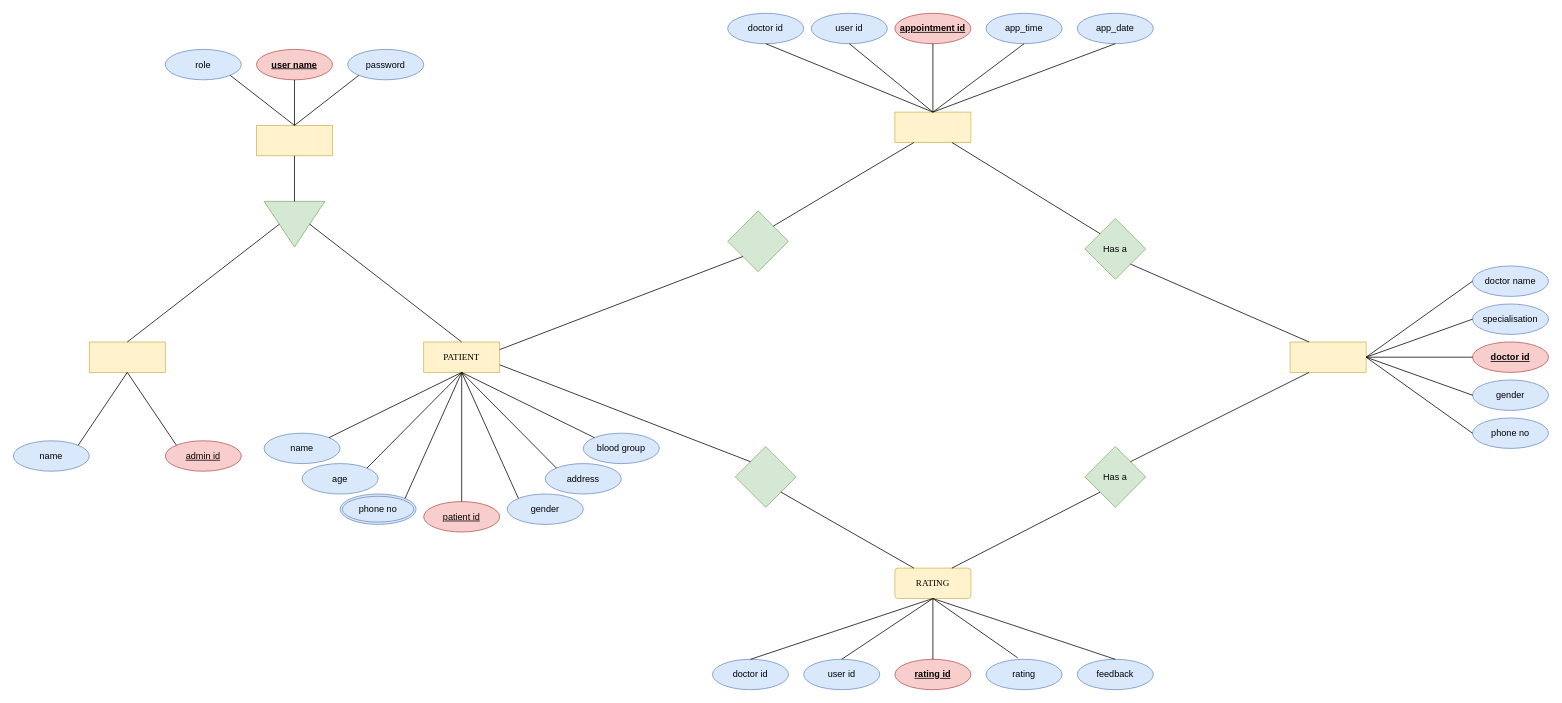
The diagram is 1562 pixels wide and 703 high, and some of its shapes have lost their labels. Here are the shapes that lost their labels. From the top down, the box of each, then its label:
(256, 125, 332, 156): USER
(894, 111, 971, 142): APPOINTMENT
(263, 201, 325, 247): Is A
(727, 210, 788, 272): Books
(89, 341, 165, 372): ADMIN
(1289, 341, 1366, 372): DOCTOR
(735, 446, 796, 507): Gives a
